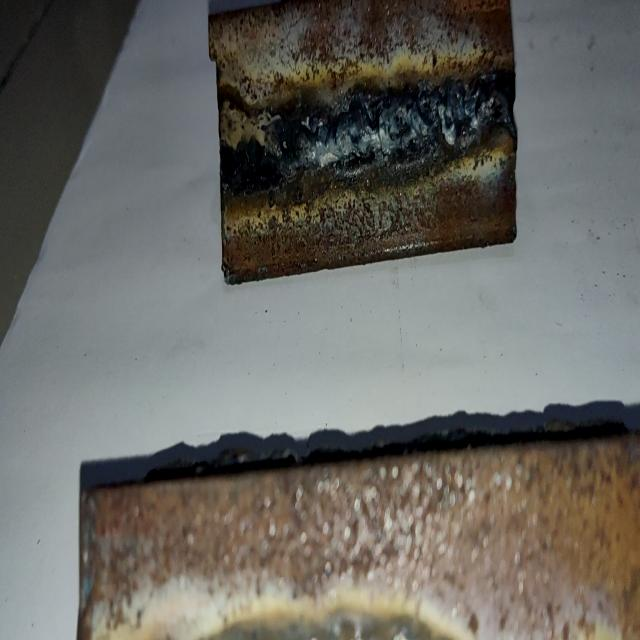Bad Weld: (231, 78, 506, 183)
Defect: (309, 78, 508, 162)
